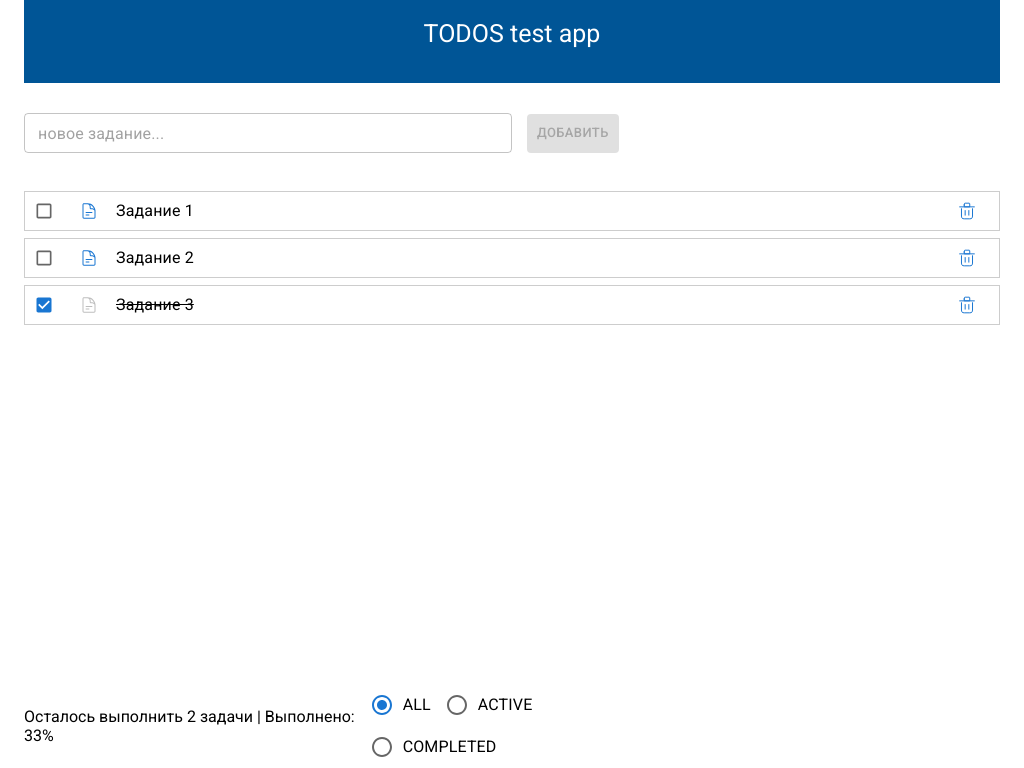
Test: Todos list tests › Фильтрация
(page scrolled)
Expected: the number of list items is 3, top-left (24, 191), bottom-right (1000, 231); top-left (24, 238), bottom-right (1000, 278); top-left (24, 285), bottom-right (1000, 325)
Click the radio button labelled "ACTIVE" at (489, 705), box top-left (445, 693), bottom-right (532, 717)
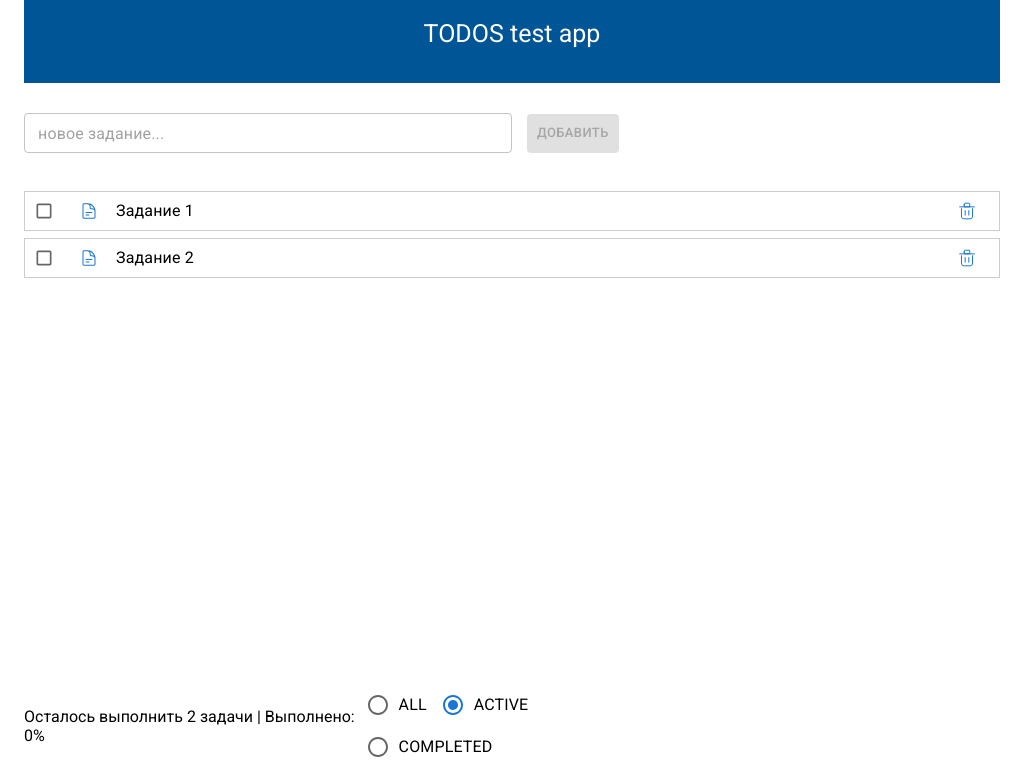
Expected: the number of list items is 2, top-left (24, 191), bottom-right (1000, 231); top-left (24, 238), bottom-right (1000, 278)
Click the radio button labelled "COMPLETED" at (429, 747), box top-left (366, 735), bottom-right (492, 759)
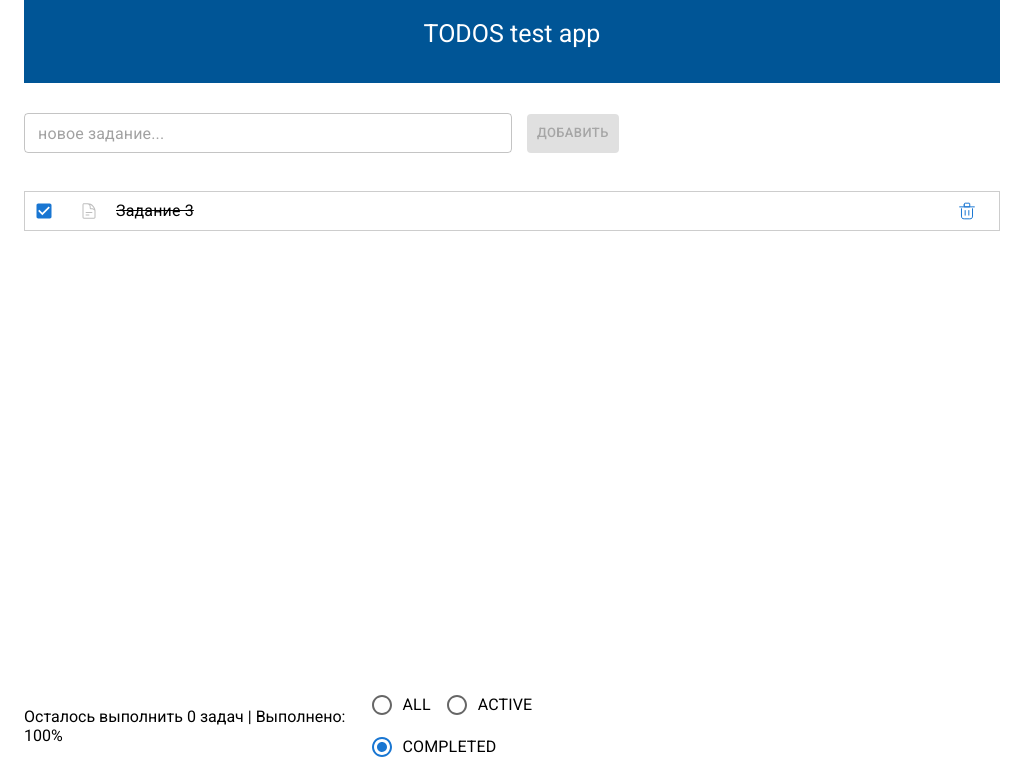
Expected: the number of list items is 1, top-left (24, 191), bottom-right (1000, 231)
